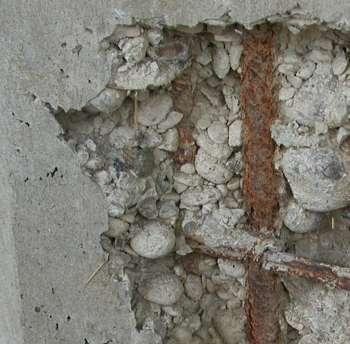exposed_rebar: (187, 24, 350, 343), (174, 79, 197, 164)
spalling: (45, 10, 350, 344)
